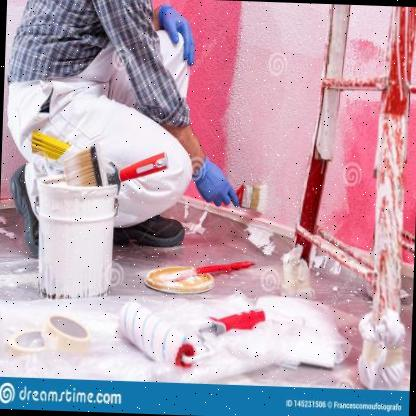bota: (5, 160, 43, 258), (114, 210, 187, 249)
